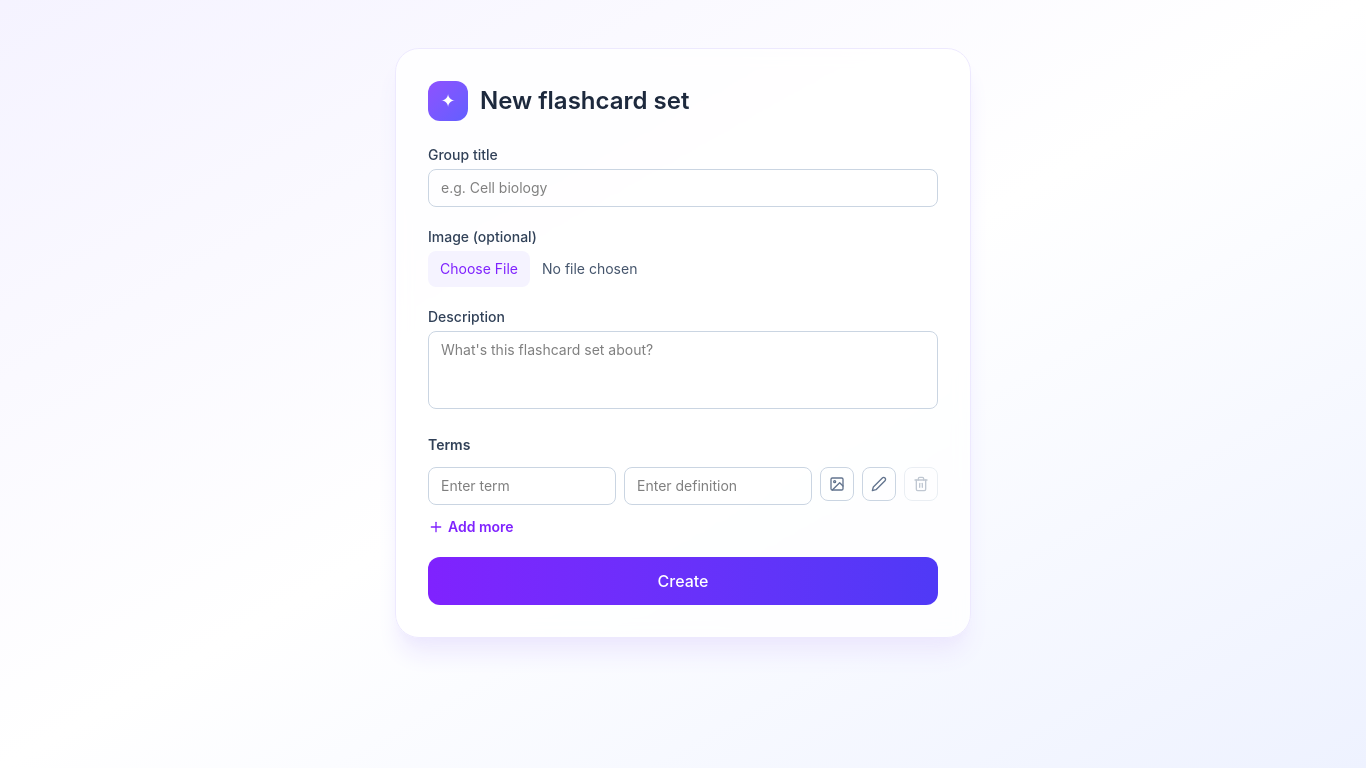
Test: CreateFlashcardPage › shows a validation error when submitted empty
Click the button "Create". click: click(683, 581)
box: [428,557,938,605]
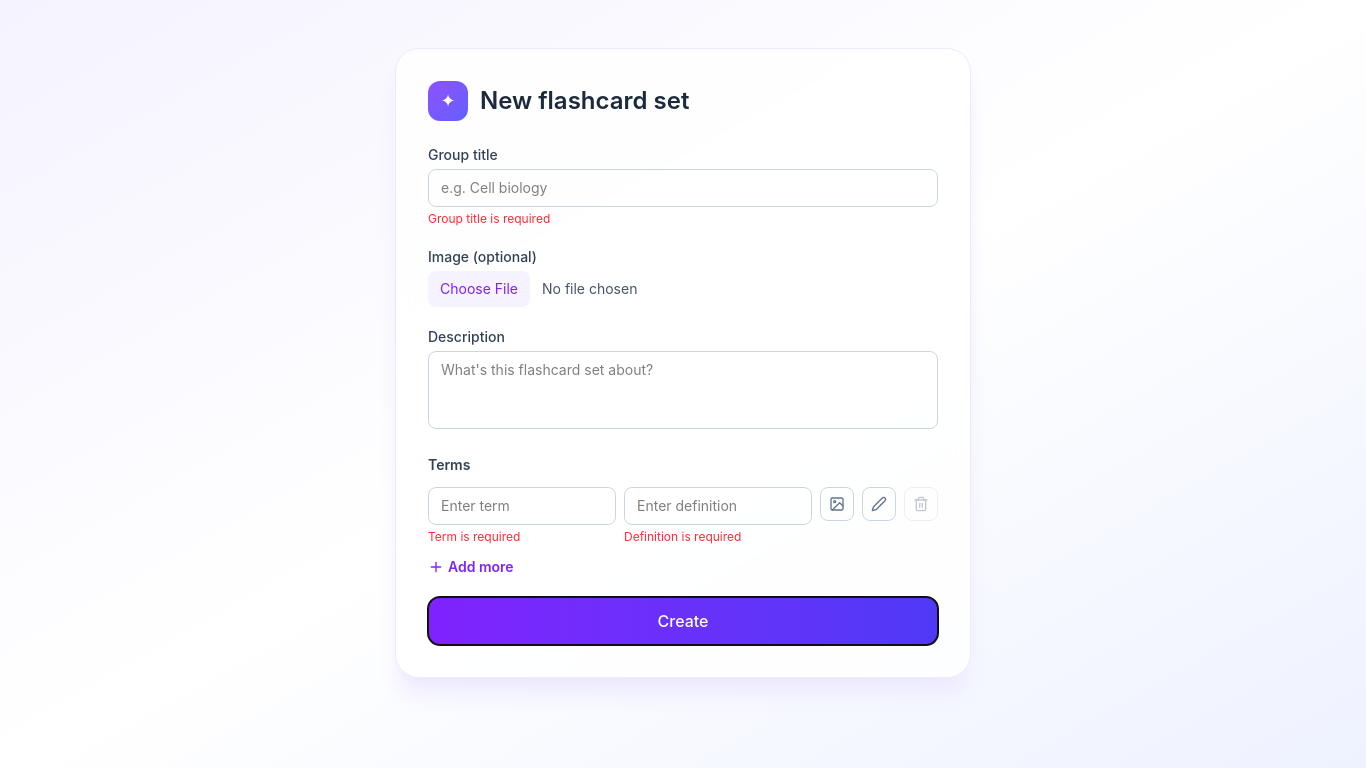
Check: the text "Group title is required" is shown, box [428,211,550,226]
